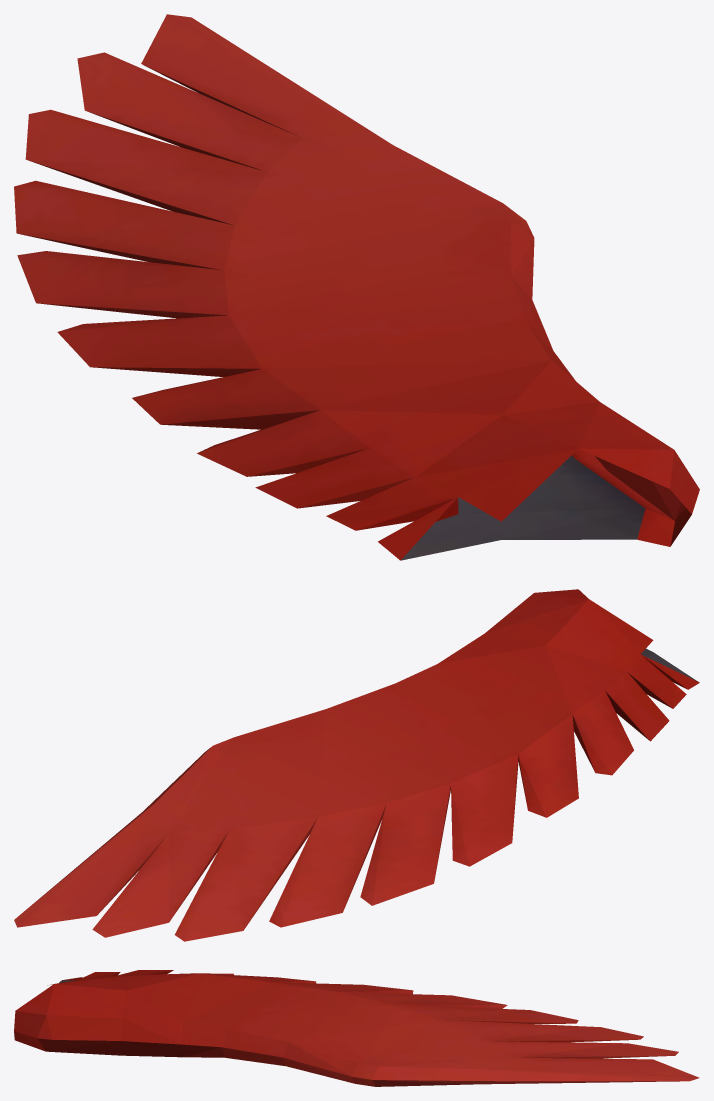
File: alaizquierdaB.fbx
3 views of the same model, one above another, from view 1: azimuth 30°, elevation 25°; view 2: azimuth 150°, elevation 25°; view 3: azimuth 270°, elevation 25° (orthographic). The views are drawn at different scales.
Visible parts, largest first — view 1: alaizquierda; view 2: alaizquierda; view 3: alaizquierda.
Part boxes in pixels (x1,y1,x2,y2): alaizquierda: (14,14,699,560); alaizquierda: (14,589,699,941); alaizquierda: (14,970,699,1086).
Bounding box in the file's own units: 927 × 190 × 2300.
